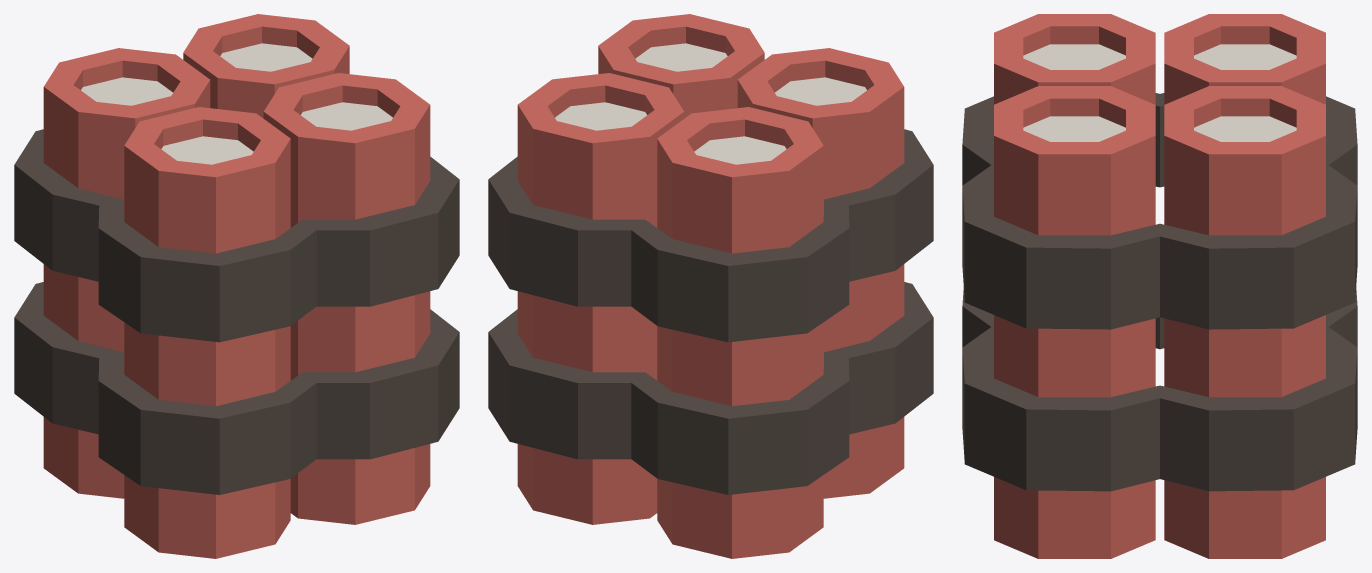
File: Bomb-Model.glb
3 views of the same model, side by side, from view 1: azimuth 30°, elevation 25°; view 2: azimuth 150°, elevation 25°; view 3: azimuth 270°, elevation 25° (orthographic). The views are drawn at different scales.
Parts seen in each view (by area): view 1: Dynamite-Model; view 2: Dynamite-Model; view 3: Dynamite-Model.
Boxes of the visible parts, left/top/right/bottom form: Dynamite-Model: left=14, top=14, right=459, bottom=558; Dynamite-Model: left=488, top=14, right=933, bottom=558; Dynamite-Model: left=962, top=14, right=1357, bottom=558.
Bounding box in the file's own units: 1.77 × 2 × 1.77.
Materials: 1 (1 with a texture image).
